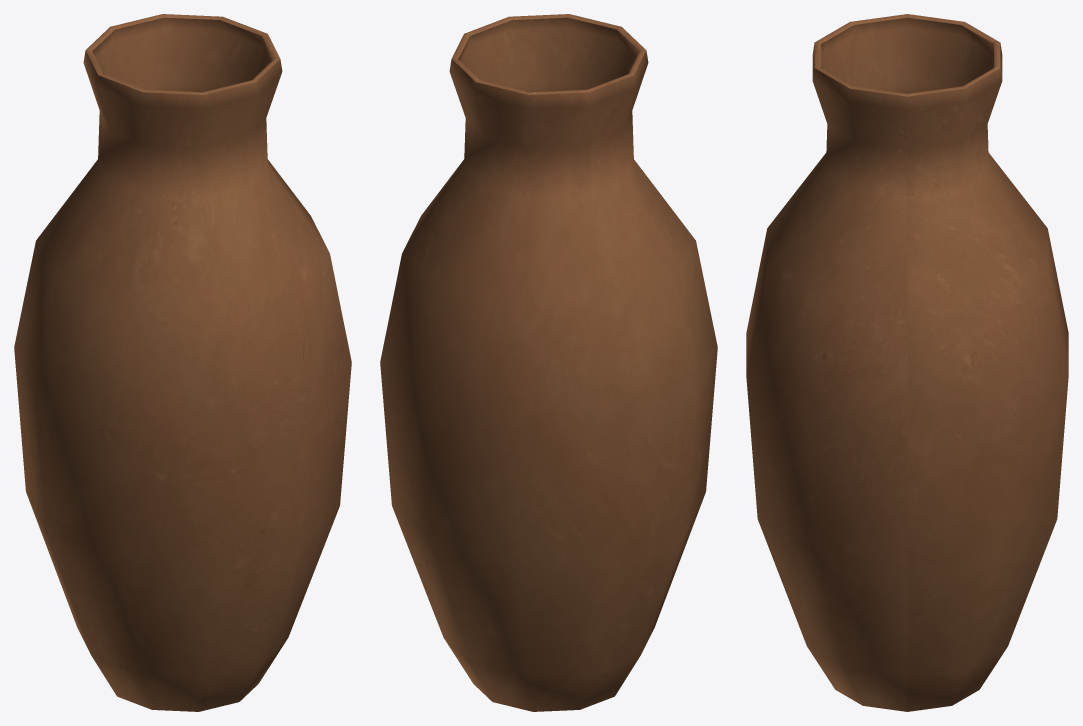
File: PotteryJar5.fbx
3 renders of one model, left to right at view 1: azimuth 30°, elevation 25°; view 2: azimuth 150°, elevation 25°; view 3: azimuth 270°, elevation 25°, orthographic.
Visible parts, largest first — view 1: PotteryJar5_; view 2: PotteryJar5_; view 3: PotteryJar5_.
Part boxes in pixels (left/top/right/bottom): PotteryJar5_: left=14, top=14, right=351, bottom=711; PotteryJar5_: left=380, top=14, right=717, bottom=711; PotteryJar5_: left=746, top=14, right=1068, bottom=711.
Size of the model in its own units: 10.54 by 21.58 by 10.03.
